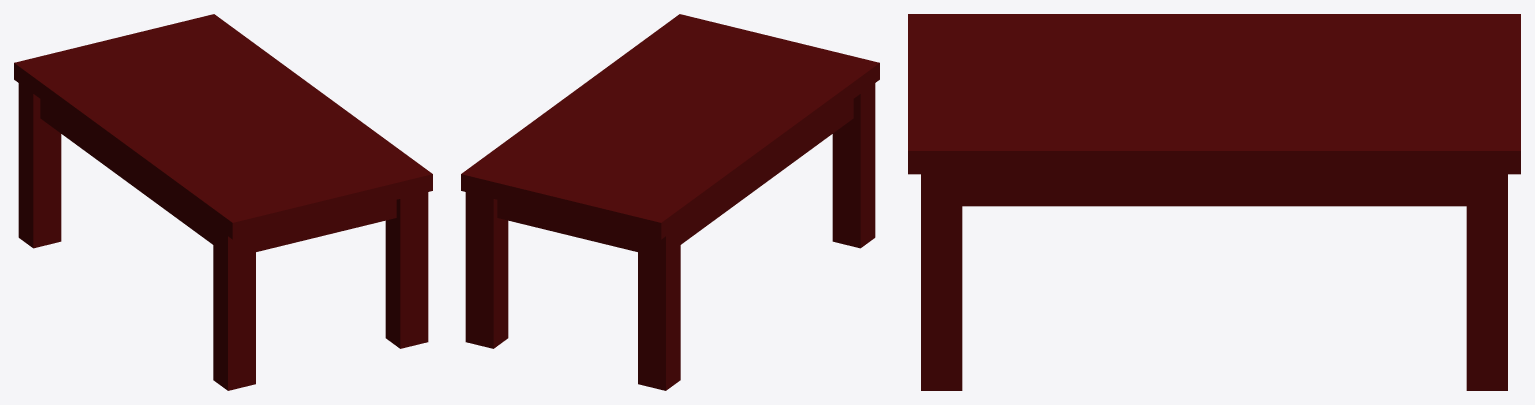
File: mesa.fbx
3 renders of one model, left to right at view 1: azimuth 30°, elevation 25°; view 2: azimuth 150°, elevation 25°; view 3: azimuth 270°, elevation 25°, orthographic. The views are drawn at different scales.
Visible parts, largest first — view 1: mesa; view 2: mesa; view 3: mesa.
Boxes of the visible parts, box(x1,y1,x2,y2) form: mesa: box(14, 14, 432, 390); mesa: box(461, 14, 879, 390); mesa: box(908, 14, 1520, 390).
Bounding box in the file's own units: 2.1 × 1.72 × 3.97.
